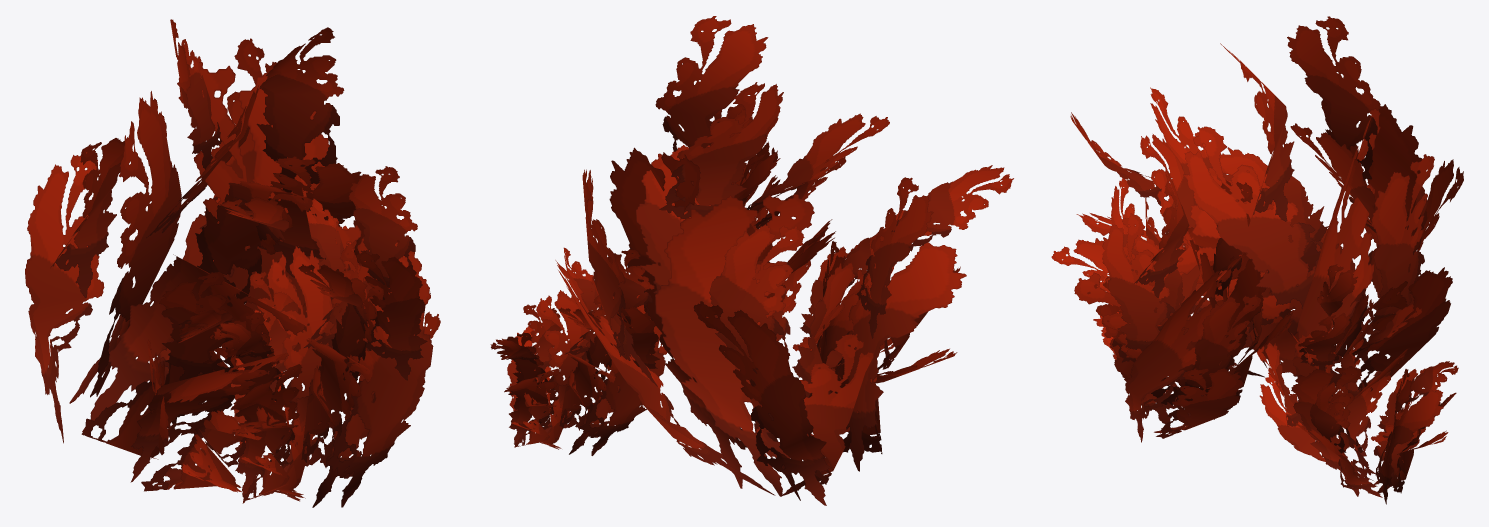
File: Red Algae 6_preview_3DS_simplified.glb
3 renders of one model, left to right at view 1: azimuth 30°, elevation 25°; view 2: azimuth 150°, elevation 25°; view 3: azimuth 270°, elevation 25°, orthographic. The views are drawn at different scales.
Visible parts, largest first — view 1: Marine Park Empire model; view 2: Marine Park Empire model; view 3: Marine Park Empire model.
Part boxes in pixels (bbox=[...]): Marine Park Empire model: bbox=[25, 19, 440, 507]; Marine Park Empire model: bbox=[490, 16, 1013, 505]; Marine Park Empire model: bbox=[1051, 16, 1463, 504].
Size of the model in its own units: 207 by 212 by 200.
1 material, 1 textured.
